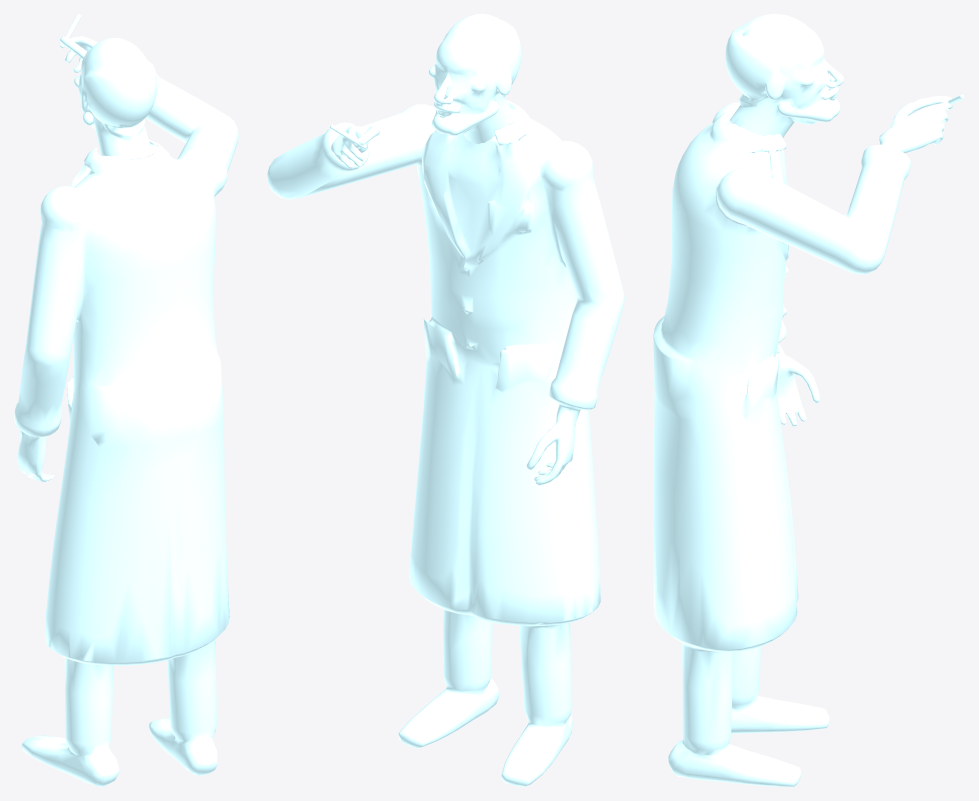
File: echo_strand_standing.glb
The picture shows the model from 3 angles, left to right: view 1: azimuth 30°, elevation 25°; view 2: azimuth 150°, elevation 25°; view 3: azimuth 270°, elevation 25°; orthographic projection. The views are drawn at different scales.
Parts seen in each view (by area): view 1: echo_body, echo_head; view 2: echo_body, echo_head; view 3: echo_body, echo_head.
Boxes of the visible parts, <box> form: echo_body: <box>14,14,238,786</box>; echo_head: <box>74,38,157,158</box>; echo_body: <box>267,100,624,786</box>; echo_head: <box>428,14,521,144</box>; echo_body: <box>653,94,964,786</box>; echo_head: <box>725,14,843,137</box>.
Size of the model in its own units: 0.6949 by 1.73 by 0.6583.
